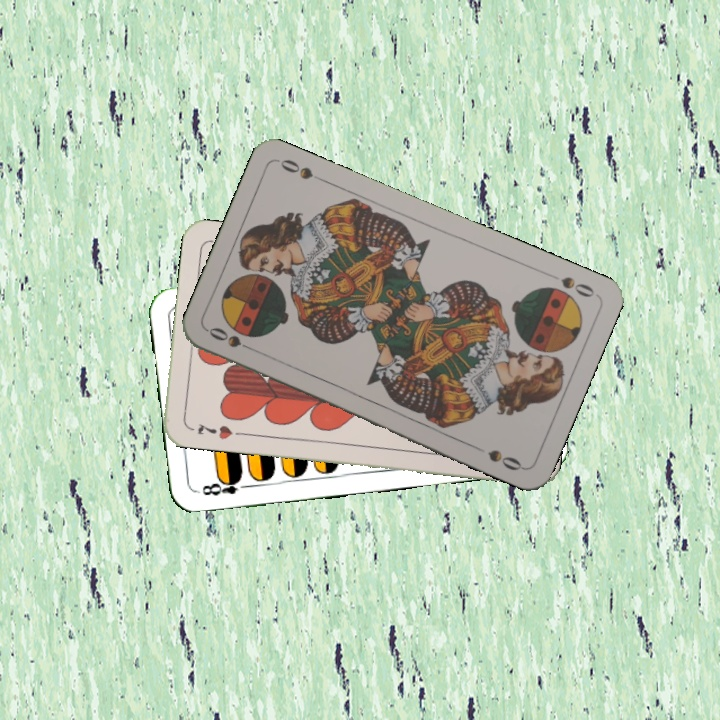E8: (195, 473, 254, 499)
H7: (193, 419, 235, 442)
SO: (204, 323, 261, 355), (557, 272, 597, 300)
